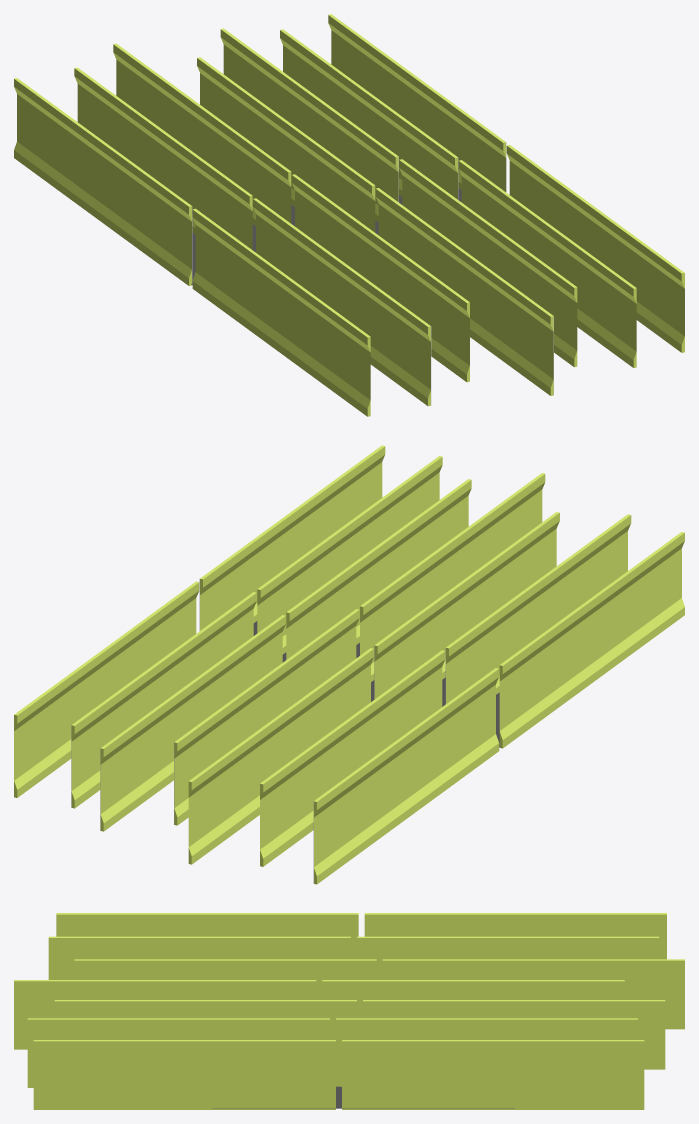
The model's file is Narrow_gap.dae.
3 renders of one model, top to bottom at view 1: azimuth 30°, elevation 25°; view 2: azimuth 150°, elevation 25°; view 3: azimuth 270°, elevation 25°, orthographic. The views are drawn at different scales.
Parts seen in each view (by area): view 1: node_9ff38431_fc5f_433d_a842_a7584aaad840_mesh8, node_9ff38431_fc5f_433d_a842_a7584aaad840_mesh7, node_9ff38431_fc5f_433d_a842_a7584aaad840_mesh1, node_9ff38431_fc5f_433d_a842_a7584aaad840_mesh5, node_9ff38431_fc5f_433d_a842_a7584aaad840_mesh14, node_9ff38431_fc5f_433d_a842_a7584aaad840_mesh12, node_9ff38431_fc5f_433d_a842_a7584aaad840_mesh0, node_9ff38431_fc5f_433d_a842_a7584aaad840_mesh3, node_9ff38431_fc5f_433d_a842_a7584aaad840_mesh11, node_9ff38431_fc5f_433d_a842_a7584aaad840_mesh2, node_9ff38431_fc5f_433d_a842_a7584aaad840_mesh13, node_9ff38431_fc5f_433d_a842_a7584aaad840_mesh9 (+2 smaller); view 2: node_9ff38431_fc5f_433d_a842_a7584aaad840_mesh8, node_9ff38431_fc5f_433d_a842_a7584aaad840_mesh7, node_9ff38431_fc5f_433d_a842_a7584aaad840_mesh11, node_9ff38431_fc5f_433d_a842_a7584aaad840_mesh3, node_9ff38431_fc5f_433d_a842_a7584aaad840_mesh4, node_9ff38431_fc5f_433d_a842_a7584aaad840_mesh2, node_9ff38431_fc5f_433d_a842_a7584aaad840_mesh1, node_9ff38431_fc5f_433d_a842_a7584aaad840_mesh12, node_9ff38431_fc5f_433d_a842_a7584aaad840_mesh14, node_9ff38431_fc5f_433d_a842_a7584aaad840_mesh9, node_9ff38431_fc5f_433d_a842_a7584aaad840_mesh10, node_9ff38431_fc5f_433d_a842_a7584aaad840_mesh5 (+2 smaller); view 3: node_9ff38431_fc5f_433d_a842_a7584aaad840_mesh2, node_9ff38431_fc5f_433d_a842_a7584aaad840_mesh14, node_9ff38431_fc5f_433d_a842_a7584aaad840_mesh11, node_9ff38431_fc5f_433d_a842_a7584aaad840_mesh1, node_9ff38431_fc5f_433d_a842_a7584aaad840_mesh8, node_9ff38431_fc5f_433d_a842_a7584aaad840_mesh3, node_9ff38431_fc5f_433d_a842_a7584aaad840_mesh7, node_9ff38431_fc5f_433d_a842_a7584aaad840_mesh5, node_9ff38431_fc5f_433d_a842_a7584aaad840_mesh4, node_9ff38431_fc5f_433d_a842_a7584aaad840_mesh0, node_9ff38431_fc5f_433d_a842_a7584aaad840_mesh10, node_9ff38431_fc5f_433d_a842_a7584aaad840_mesh12 (+3 smaller).
Part boxes in pixels (left/top/right/bottom): node_9ff38431_fc5f_433d_a842_a7584aaad840_mesh8: left=14, top=78, right=192, bottom=285; node_9ff38431_fc5f_433d_a842_a7584aaad840_mesh7: left=192, top=208, right=370, bottom=416; node_9ff38431_fc5f_433d_a842_a7584aaad840_mesh1: left=253, top=198, right=431, bottom=406; node_9ff38431_fc5f_433d_a842_a7584aaad840_mesh5: left=375, top=188, right=553, bottom=395; node_9ff38431_fc5f_433d_a842_a7584aaad840_mesh14: left=506, top=145, right=684, bottom=352; node_9ff38431_fc5f_433d_a842_a7584aaad840_mesh12: left=291, top=174, right=469, bottom=382; node_9ff38431_fc5f_433d_a842_a7584aaad840_mesh0: left=458, top=160, right=636, bottom=367; node_9ff38431_fc5f_433d_a842_a7584aaad840_mesh3: left=74, top=67, right=252, bottom=249; node_9ff38431_fc5f_433d_a842_a7584aaad840_mesh11: left=113, top=43, right=291, bottom=225; node_9ff38431_fc5f_433d_a842_a7584aaad840_mesh2: left=328, top=14, right=506, bottom=191; node_9ff38431_fc5f_433d_a842_a7584aaad840_mesh13: left=399, top=159, right=577, bottom=367; node_9ff38431_fc5f_433d_a842_a7584aaad840_mesh9: left=197, top=57, right=375, bottom=232; node_9ff38431_fc5f_433d_a842_a7584aaad840_mesh8: left=313, top=668, right=499, bottom=884; node_9ff38431_fc5f_433d_a842_a7584aaad840_mesh7: left=499, top=532, right=684, bottom=748; node_9ff38431_fc5f_433d_a842_a7584aaad840_mesh11: left=188, top=648, right=373, bottom=864; node_9ff38431_fc5f_433d_a842_a7584aaad840_mesh3: left=260, top=650, right=445, bottom=866; node_9ff38431_fc5f_433d_a842_a7584aaad840_mesh4: left=100, top=615, right=285, bottom=831; node_9ff38431_fc5f_433d_a842_a7584aaad840_mesh2: left=14, top=581, right=199, bottom=797; node_9ff38431_fc5f_433d_a842_a7584aaad840_mesh1: left=445, top=514, right=631, bottom=703; node_9ff38431_fc5f_433d_a842_a7584aaad840_mesh12: left=374, top=512, right=559, bottom=699; node_9ff38431_fc5f_433d_a842_a7584aaad840_mesh14: left=199, top=445, right=385, bottom=630; node_9ff38431_fc5f_433d_a842_a7584aaad840_mesh9: left=174, top=609, right=359, bottom=825; node_9ff38431_fc5f_433d_a842_a7584aaad840_mesh10: left=71, top=592, right=256, bottom=808; node_9ff38431_fc5f_433d_a842_a7584aaad840_mesh5: left=360, top=473, right=545, bottom=681; node_9ff38431_fc5f_433d_a842_a7584aaad840_mesh2: left=342, top=1040, right=644, bottom=1109; node_9ff38431_fc5f_433d_a842_a7584aaad840_mesh14: left=33, top=1040, right=335, bottom=1109; node_9ff38431_fc5f_433d_a842_a7584aaad840_mesh11: left=382, top=959, right=684, bottom=1029; node_9ff38431_fc5f_433d_a842_a7584aaad840_mesh1: left=48, top=936, right=350, bottom=979; node_9ff38431_fc5f_433d_a842_a7584aaad840_mesh8: left=364, top=913, right=666, bottom=959; node_9ff38431_fc5f_433d_a842_a7584aaad840_mesh3: left=357, top=936, right=659, bottom=979; node_9ff38431_fc5f_433d_a842_a7584aaad840_mesh7: left=56, top=913, right=358, bottom=959; node_9ff38431_fc5f_433d_a842_a7584aaad840_mesh5: left=14, top=980, right=316, bottom=1049; node_9ff38431_fc5f_433d_a842_a7584aaad840_mesh4: left=363, top=1000, right=665, bottom=1069; node_9ff38431_fc5f_433d_a842_a7584aaad840_mesh0: left=27, top=1018, right=329, bottom=1087; node_9ff38431_fc5f_433d_a842_a7584aaad840_mesh10: left=336, top=1018, right=637, bottom=1086; node_9ff38431_fc5f_433d_a842_a7584aaad840_mesh12: left=74, top=959, right=376, bottom=999.
Size of the model in its own units: 5030 by 1250 by 11100.
